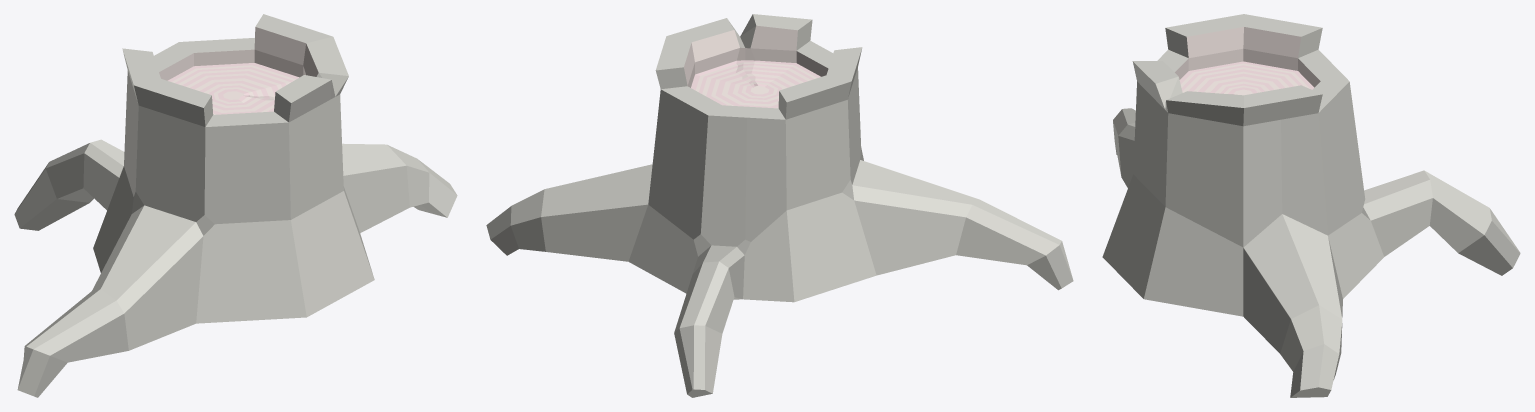
File: KantoV4.fbx
3 renders of one model, left to right at view 1: azimuth 30°, elevation 25°; view 2: azimuth 150°, elevation 25°; view 3: azimuth 270°, elevation 25°, orthographic. The views are drawn at different scales.
Visible parts, largest first — view 1: Circle; view 2: Circle; view 3: Circle.
Part boxes in pixels (<box>): Circle: <box>14,14,457,397</box>; Circle: <box>486,14,1073,397</box>; Circle: <box>1102,14,1520,397</box>.
Size of the model in its own units: 558 by 255 by 393.
